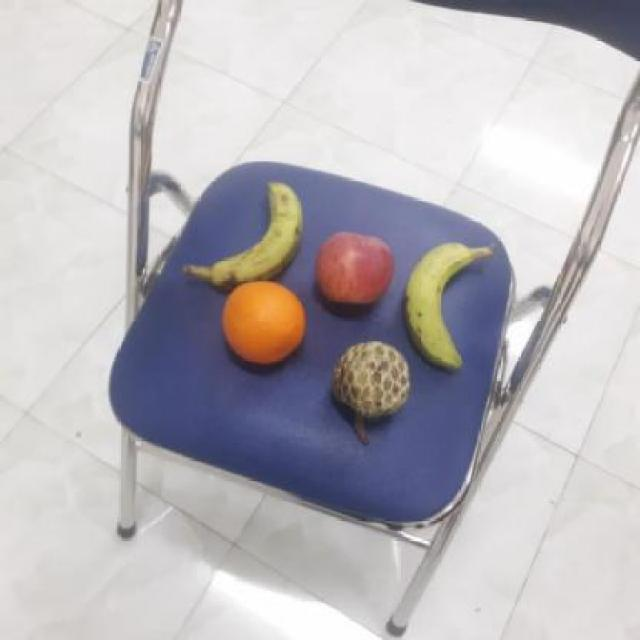apple: (316, 231, 398, 311)
banana: (194, 178, 306, 287), (402, 243, 496, 369)
oren: (219, 279, 307, 370)
sugar apple: (330, 337, 413, 418)
